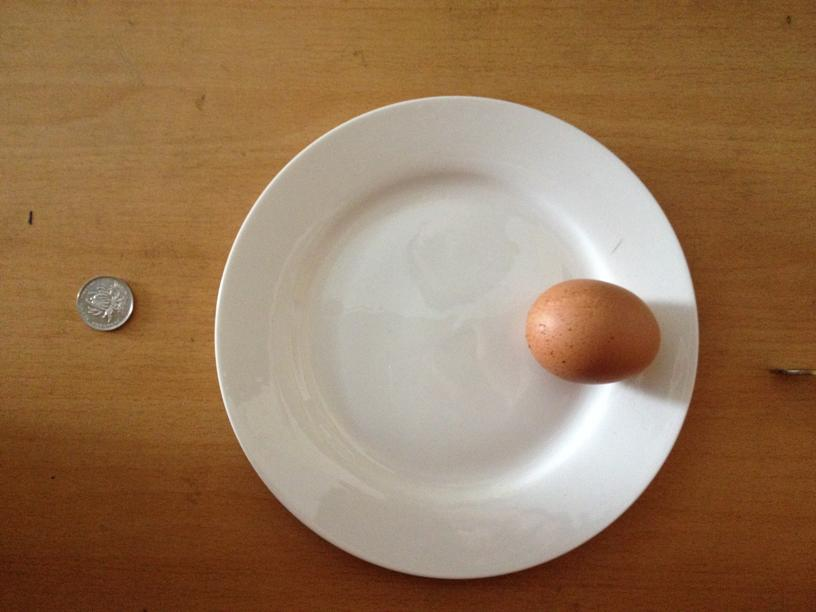coin: (76, 270, 134, 331)
egg: (523, 273, 659, 383)
